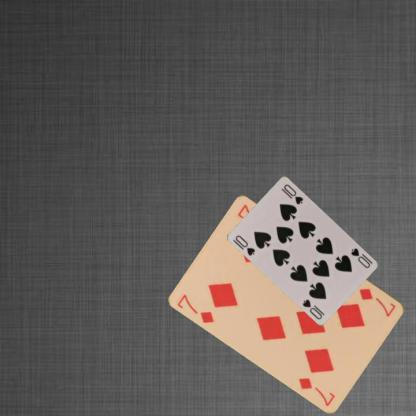10s: (348, 246, 374, 269), (233, 233, 256, 257)
7d: (175, 291, 216, 325), (356, 286, 397, 318)
